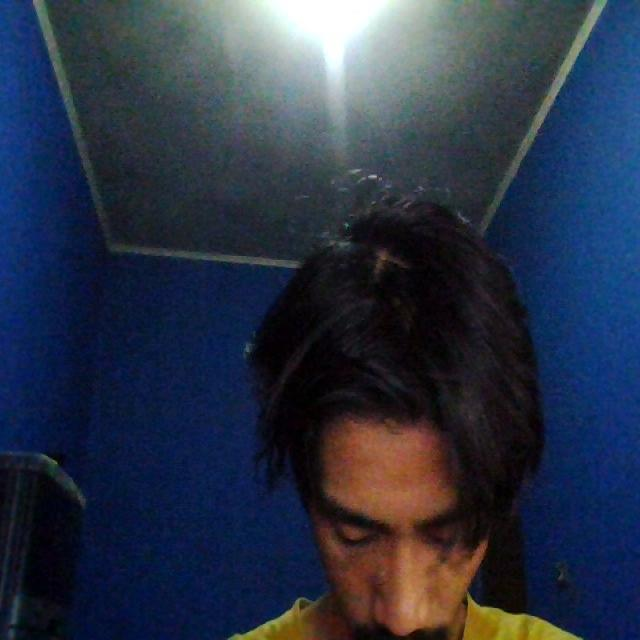Melihat Kebawah: (205, 156, 560, 640)
